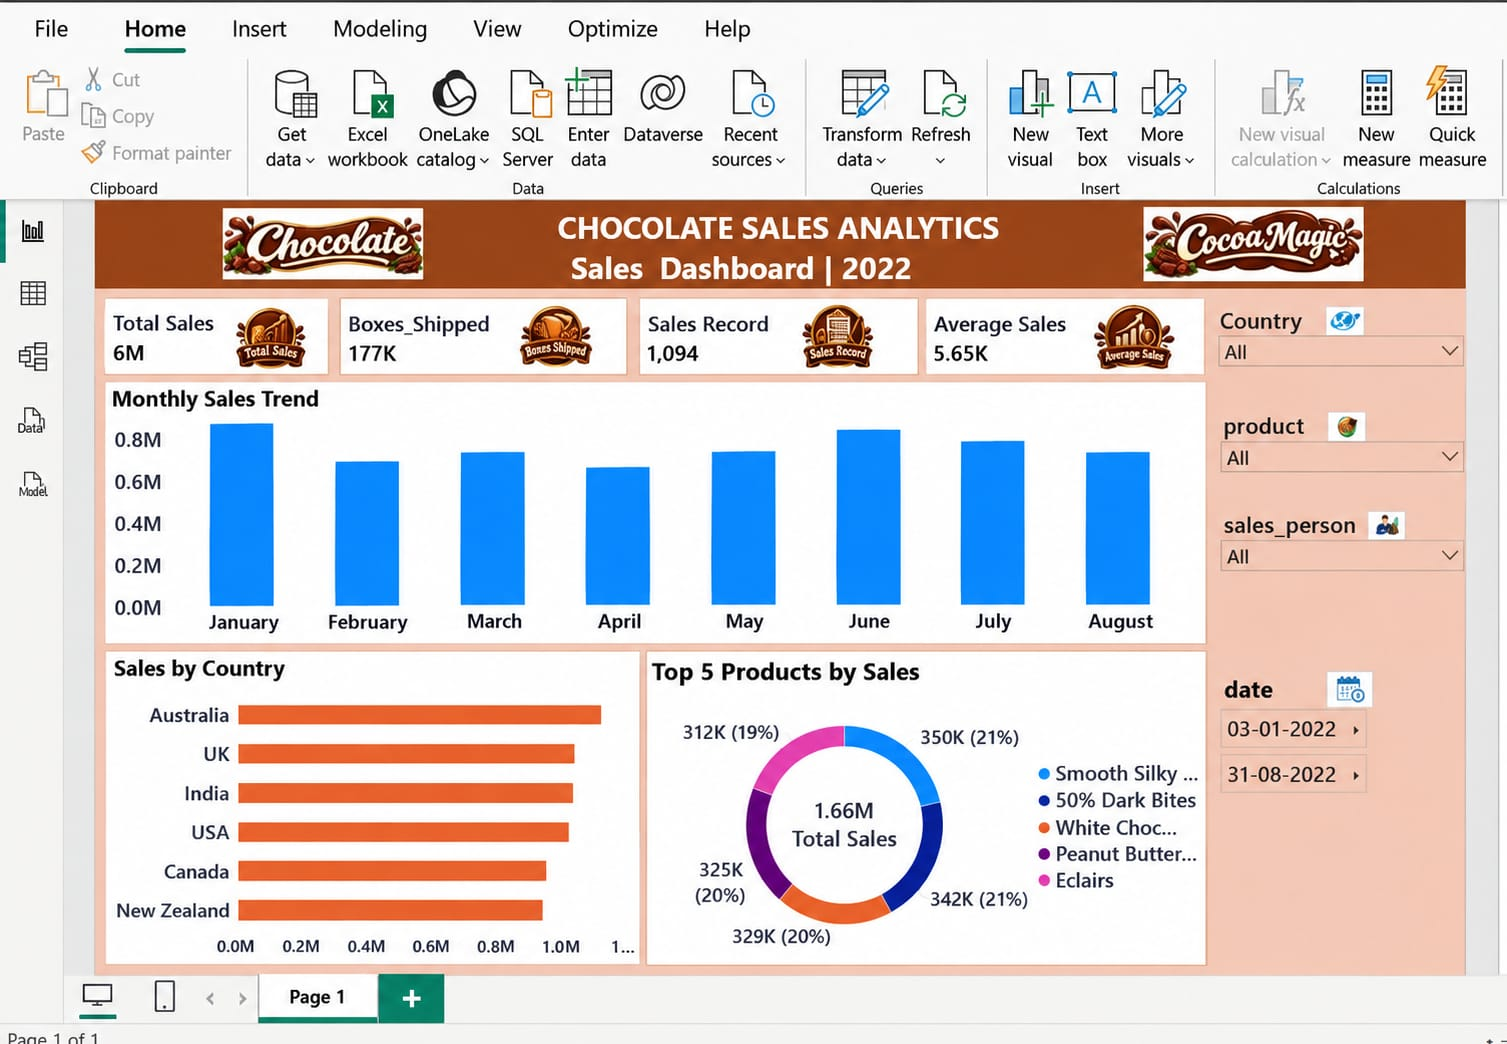

The dashboard page shown, as its layout file describes it:
{"tool":"powerbi","page":{"name":"Page 1","canvas":[3840,2160],"ordinal":0},"visuals":[{"type":"textbox","box":[0,0,3840.5,241.9],"z":0},{"type":"cardVisual","fields":{"Data":["chocolate_sales_cleaned.Total Sales"]},"box":[34.6,272.2,613.3,200],"z":1},{"type":"cardVisual","fields":{"Data":["Sum(chocolate_sales_cleaned.boxes_shipped)"]},"box":[686.9,272.2,793.3,200],"z":2},{"type":"cardVisual","fields":{"Data":["chocolate_sales_cleaned.Sales Record Display"]},"box":[1520.6,272.2,780,200],"z":3},{"type":"cardVisual","fields":{"Data":["chocolate_sales_cleaned.Average Sales"]},"box":[2319.8,272.2,786.2,198.7],"z":4},{"type":"clusteredColumnChart","title":"Monthly Sales Trend","fields":{"Category":["chocolate_sales_cleaned.date.Variation.Date Hierarchy.Month"],"Y":["chocolate_sales_cleaned.Total Sales"]},"box":[34.6,492.5,3071.5,721.4],"z":5},{"type":"clusteredBarChart","title":"Sales by Country","fields":{"Category":["chocolate_sales_cleaned.country"],"Y":["chocolate_sales_cleaned.Total Sales"]},"box":[34.6,1231.2,1486.1,885.6],"z":6},{"type":"donutChart","title":"Top 5 Products by Sales","fields":{"Category":["chocolate_sales_cleaned.product"],"Y":["chocolate_sales_cleaned.Total Sales"]},"box":[1533.6,1231.2,1572.5,885.6],"z":7},{"type":"slicer","fields":{"Values":["chocolate_sales_cleaned.country"]},"box":[3130,300,700,1859.1],"z":8},{"type":"slicer","fields":{"Values":["chocolate_sales_cleaned.product"]},"box":[3145,583.2,695.5,229],"z":9},{"type":"slicer","fields":{"Values":["chocolate_sales_cleaned.sales_person"]},"box":[3144.4,855.6,690,385],"z":10},{"type":"slicer","fields":{"Values":["chocolate_sales_cleaned.date"]},"box":[3144.4,1300,690,335],"z":11},{"type":"image","box":[341.3,276.5,298.1,198.7],"z":15},{"type":"image","box":[1084.3,276.5,397.4,198.7],"z":16},{"type":"image","box":[1874.9,272.2,380.2,198.7],"z":17},{"type":"image","box":[2721.6,272.2,384.5,198.7],"z":18},{"type":"image","box":[3330.7,298.1,298.1,73.4],"z":19},{"type":"image","box":[3339.4,583.2,298.1,77.8],"z":20},{"type":"image","box":[3490.6,855.4,233.3,73.4],"z":21},{"type":"image","box":[3343.7,1300.3,298.1,90.7],"z":22},{"type":"image","box":[142.6,21.6,989.3,198.7],"z":23},{"type":"image","box":[2842.6,21.6,786.2,198.7],"z":24}]}

Visuals, with their boxes on the page's 3840x2160 design canvas (x1, y1, x2, y2). These are canvas units, not pixel positions in the 1507x1044 screenshot, which may show the page scaled, cropped or inside an application window:
textbox: <box>0,0,3840,242</box>
cardVisual - chocolate_sales_cleaned.Total Sales: <box>35,272,648,472</box>
cardVisual - Sum(chocolate_sales_cleaned.boxes_shipped): <box>687,272,1480,472</box>
cardVisual - chocolate_sales_cleaned.Sales Record Display: <box>1521,272,2301,472</box>
cardVisual - chocolate_sales_cleaned.Average Sales: <box>2320,272,3106,471</box>
"Monthly Sales Trend" clusteredColumnChart: <box>35,492,3106,1214</box>
"Sales by Country" clusteredBarChart: <box>35,1231,1521,2117</box>
"Top 5 Products by Sales" donutChart: <box>1534,1231,3106,2117</box>
slicer - chocolate_sales_cleaned.country: <box>3130,300,3830,2159</box>
slicer - chocolate_sales_cleaned.product: <box>3145,583,3840,812</box>
slicer - chocolate_sales_cleaned.sales_person: <box>3144,856,3834,1241</box>
slicer - chocolate_sales_cleaned.date: <box>3144,1300,3834,1635</box>
image: <box>341,276,639,475</box>
image: <box>1084,276,1482,475</box>
image: <box>1875,272,2255,471</box>
image: <box>2722,272,3106,471</box>
image: <box>3331,298,3629,372</box>
image: <box>3339,583,3638,661</box>
image: <box>3491,855,3724,929</box>
image: <box>3344,1300,3642,1391</box>
image: <box>143,22,1132,220</box>
image: <box>2843,22,3629,220</box>
